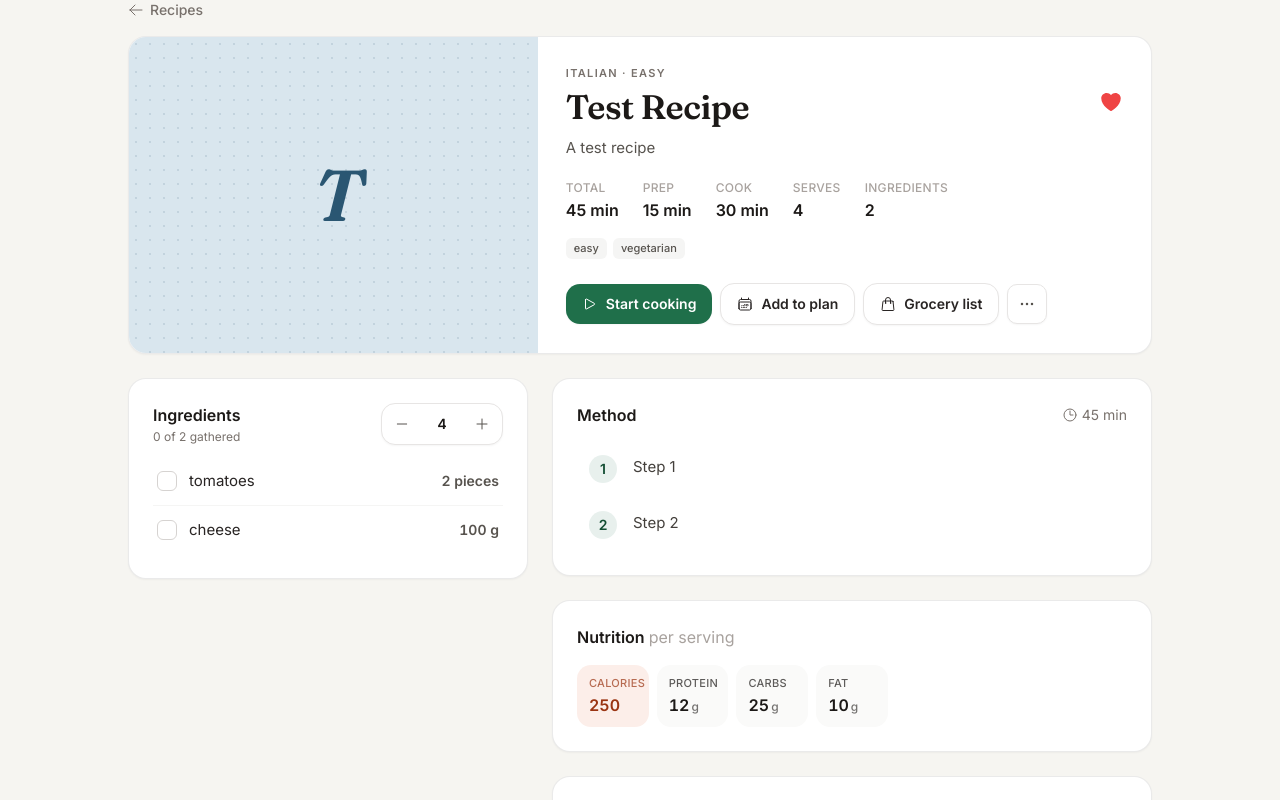
Test case: RecipeDetailPage › opens cook mode at the clicked step
Expected: the heading "Test Recipe" is shown, [566, 86, 749, 128]
Click the button "2 Step 2": (656, 522) [577, 499, 1127, 551]
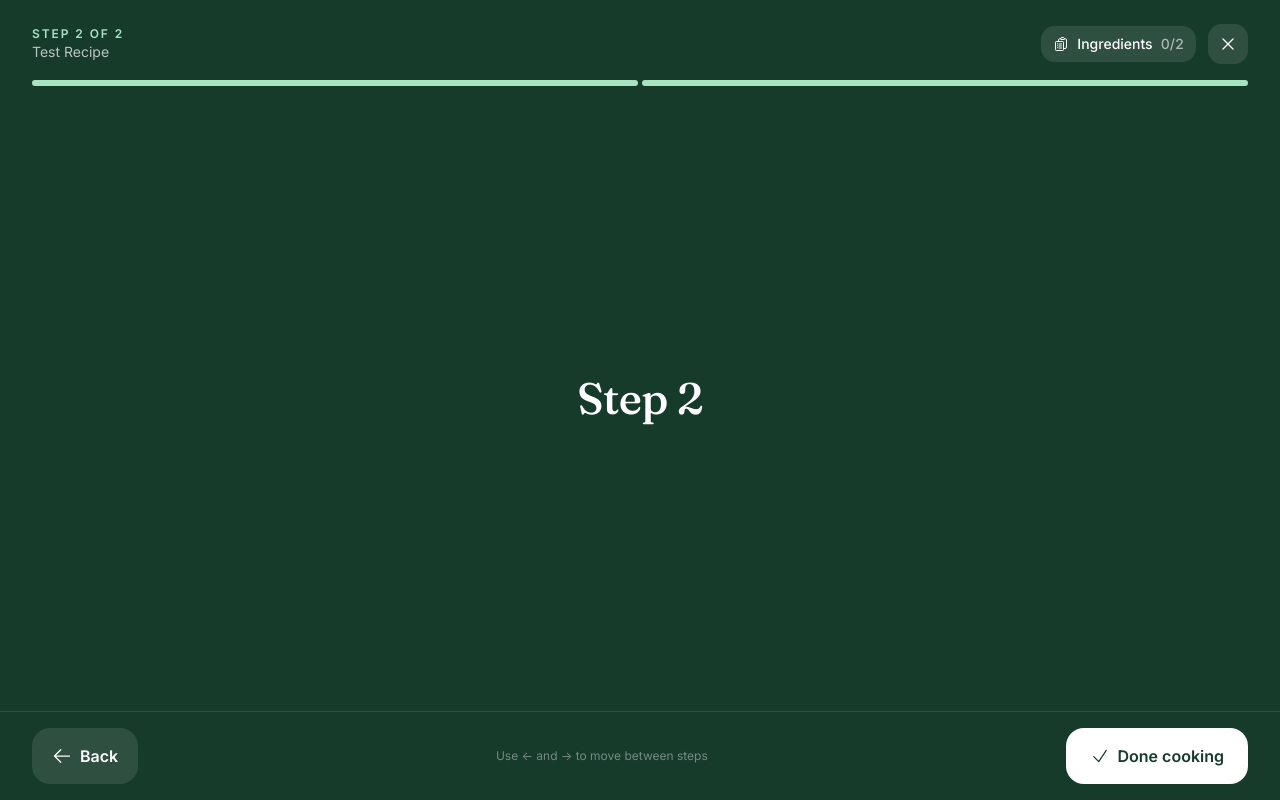
Expected: the text "Step 2 of 2" is shown, [32, 26, 124, 41]
Click the button named "Exit cook mode": (1228, 44) [1208, 24, 1248, 64]
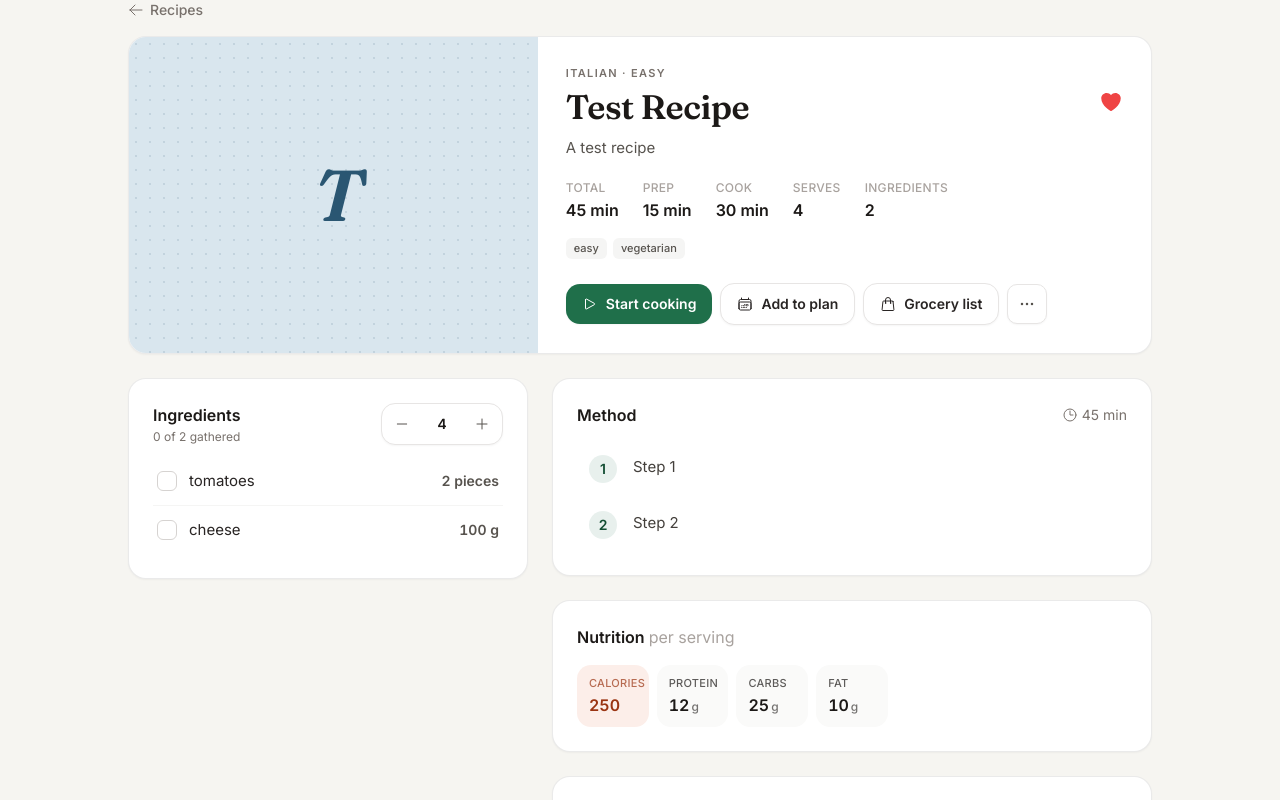
Expected: the dialog is gone
